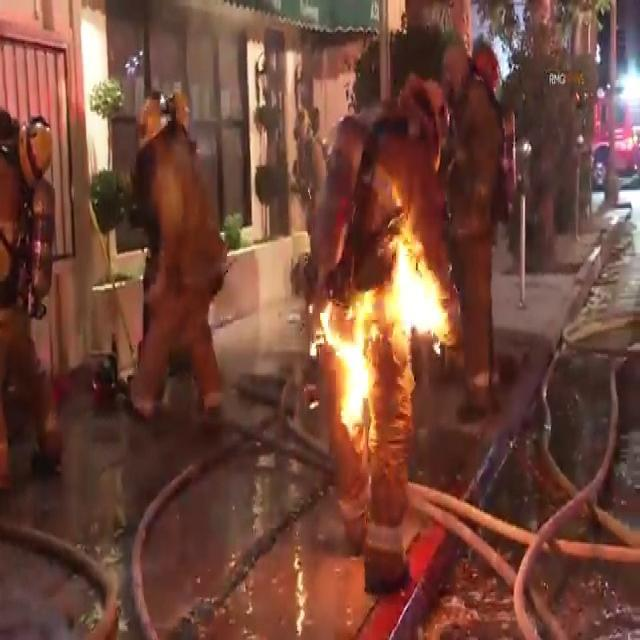Fire: (314, 196, 462, 440)
